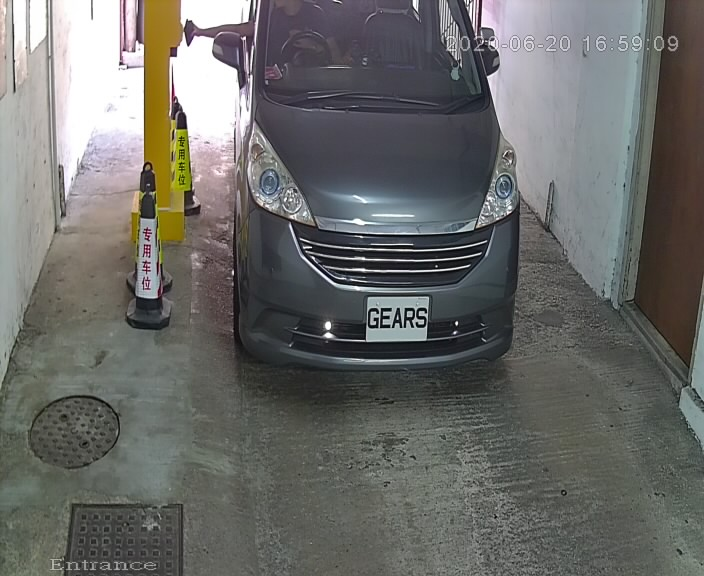privatecar: (207, 1, 551, 402)
